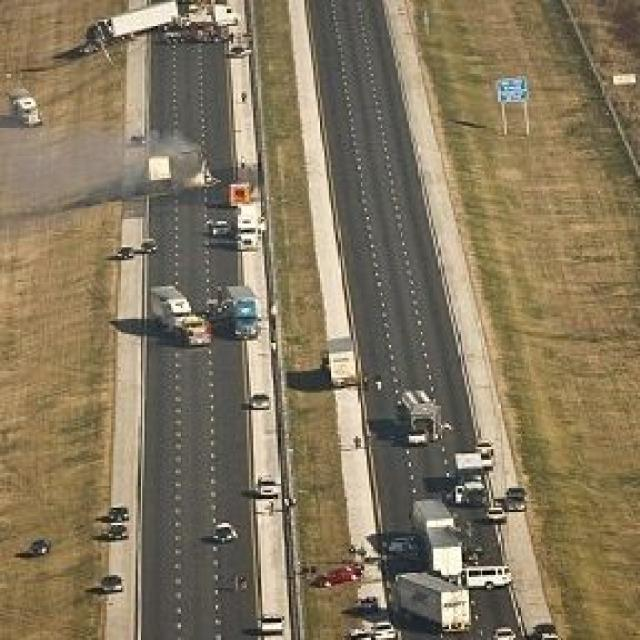traffic_incident: (84, 0, 249, 52), (115, 128, 209, 200)
